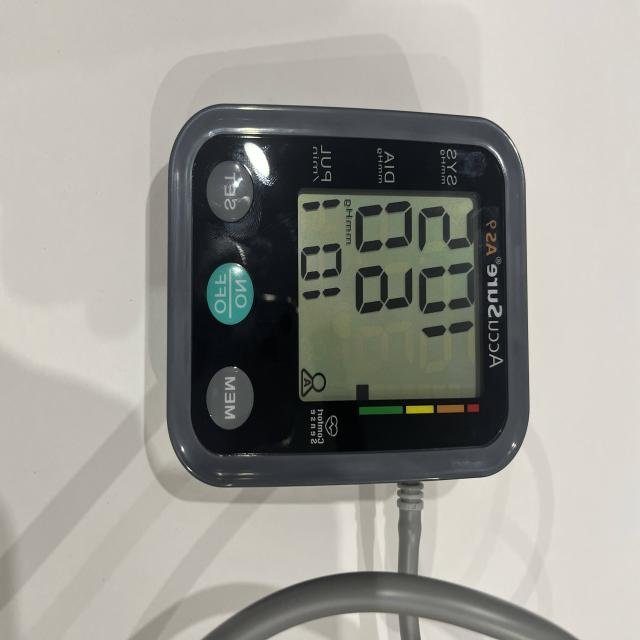bp: (150, 102, 531, 492)
